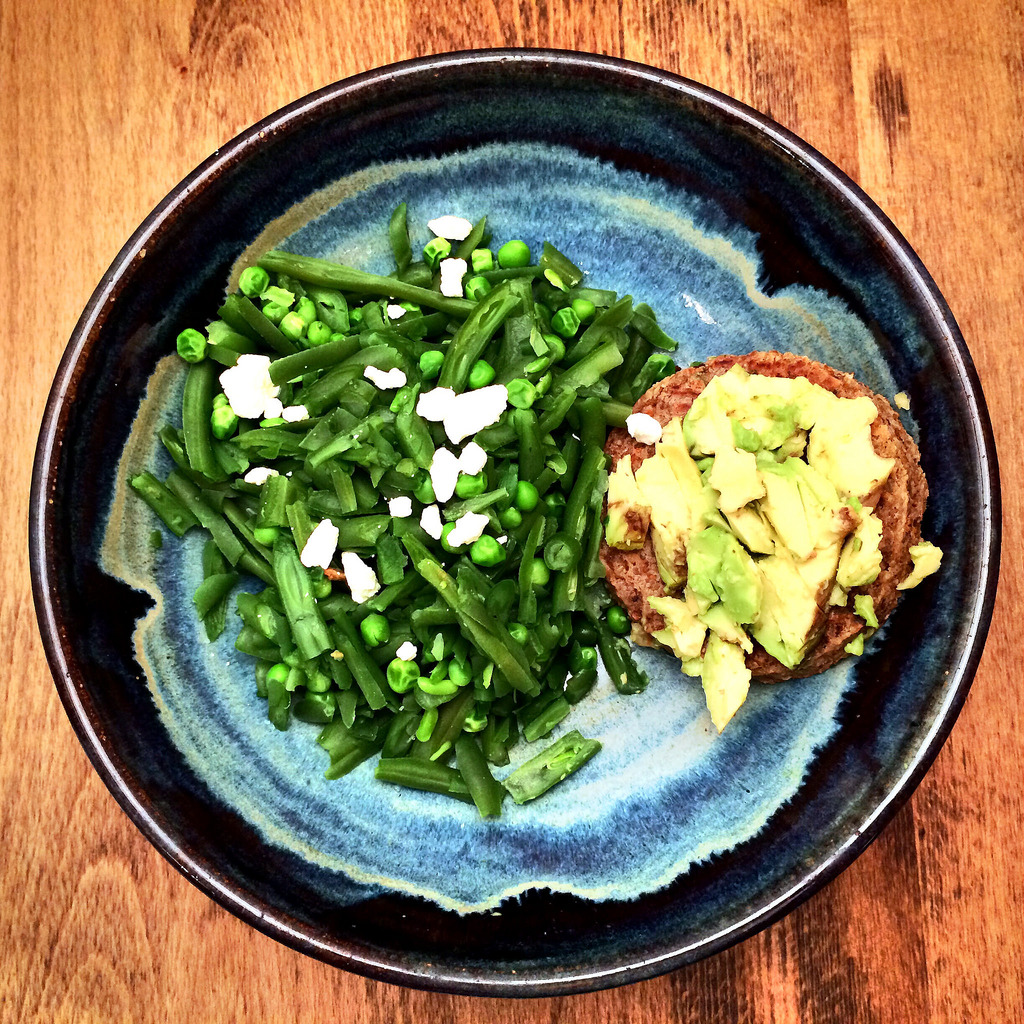boiled peas: (227, 268, 283, 304)
slice of bread: (593, 325, 924, 671)
